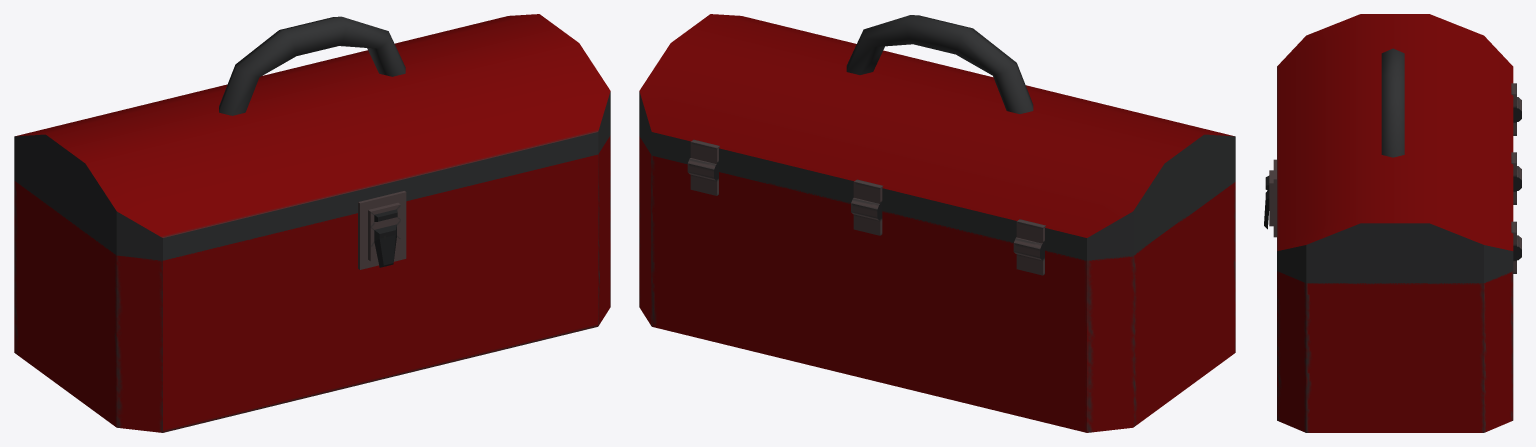
The model's file is Toolbox.FBX.
The picture shows the model from 3 angles, left to right: view 1: azimuth 30°, elevation 25°; view 2: azimuth 150°, elevation 25°; view 3: azimuth 270°, elevation 25°; orthographic projection. The views are drawn at different scales.
Visible parts, largest first — view 1: Toolbox; view 2: Toolbox; view 3: Toolbox.
Boxes of the visible parts, x1,y1,x2,y2 form: Toolbox: (14,14,610,432); Toolbox: (639,14,1235,432); Toolbox: (1264,14,1521,432).
Bounding box in the file's own units: 60.66 × 36.09 × 31.55.
1 material, 1 textured.
